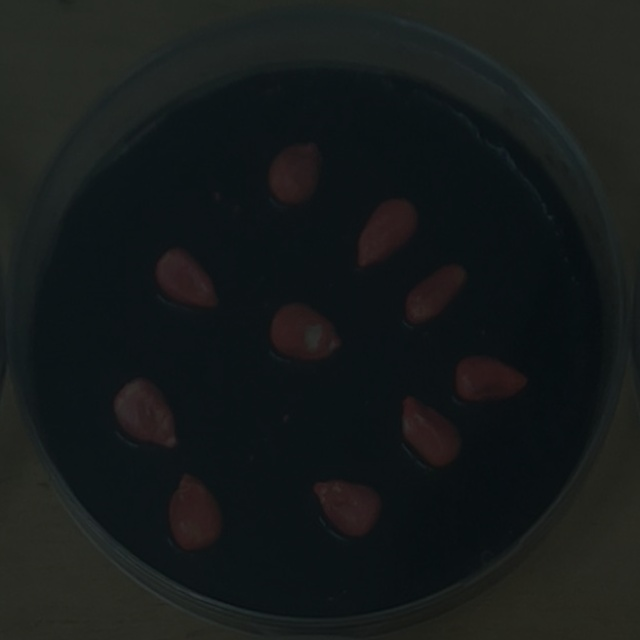Zea mays: (106, 369, 185, 459), (159, 464, 232, 558), (347, 190, 424, 277), (394, 389, 469, 473), (304, 471, 389, 545), (264, 293, 349, 367), (397, 254, 475, 333), (148, 239, 227, 316), (449, 346, 536, 408), (262, 134, 330, 212)
